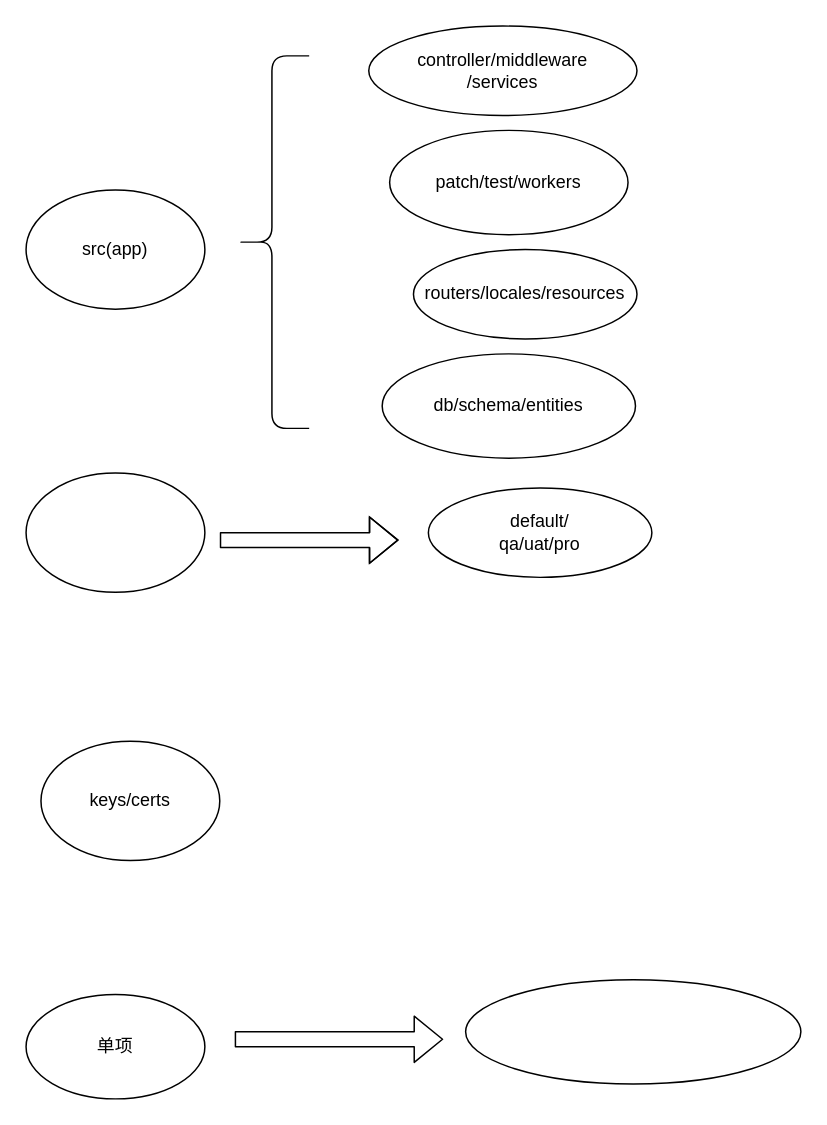
The diagram is 827 pixels wide and 1125 high, and some of its shapes have lost their labels. The shapes that lost their labels are listed below. From the top down, each one's centre as x and y in pixels, then its label:
At [115,532]: "config".
At [632,1031]: "package.json/.gitignore/tsconfig /dockerfile/.gitlab-ci".
